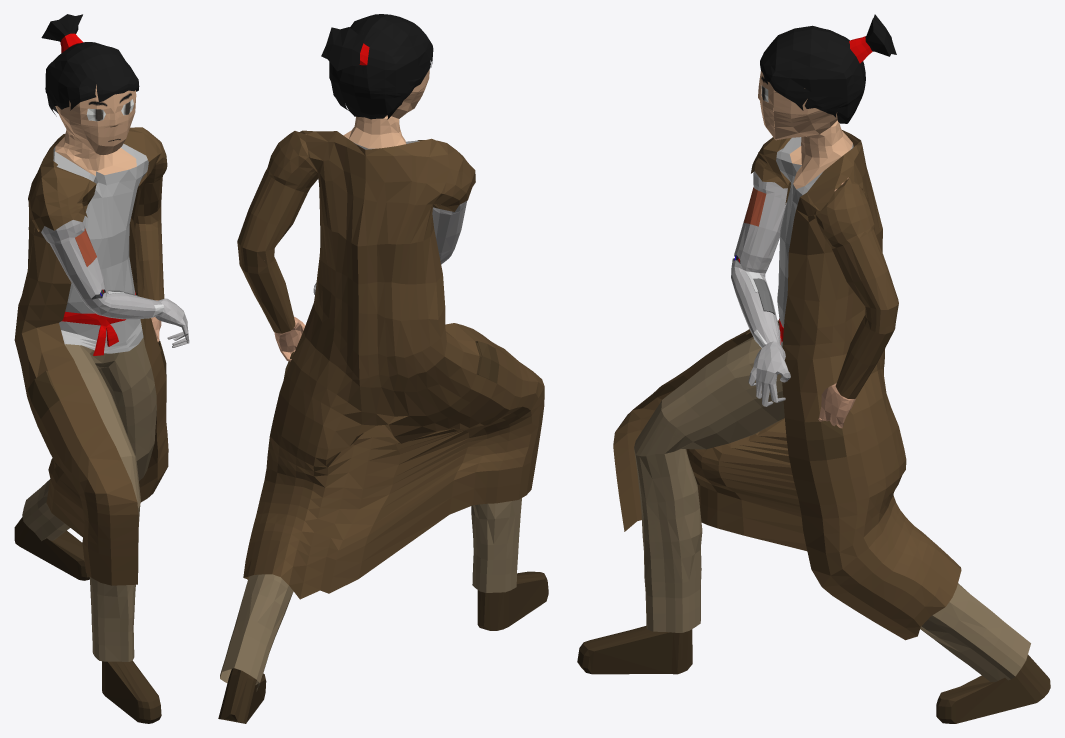
Rendered from One_DR_000001.obj.
3 views of the same model, side by side, from view 1: azimuth 30°, elevation 25°; view 2: azimuth 150°, elevation 25°; view 3: azimuth 270°, elevation 25° (orthographic). The views are drawn at different scales.
Parts seen in each view (by area): view 1: Hair_Cube.004; view 2: Hair_Cube.004; view 3: Hair_Cube.004.
Boxes of the visible parts, bbox=[...] form: Hair_Cube.004: bbox=[14, 14, 189, 723]; Hair_Cube.004: bbox=[218, 14, 548, 723]; Hair_Cube.004: bbox=[577, 14, 1050, 723].
Bounding box in the file's own units: 1.11 × 3.57 × 2.27.
